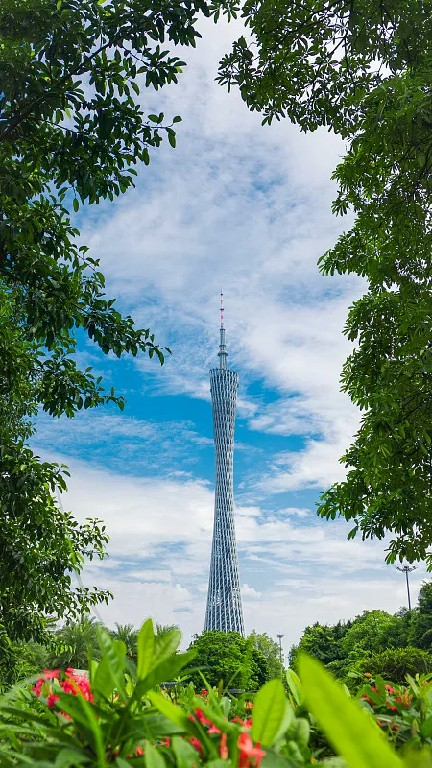Canton: (202, 288, 247, 641)
